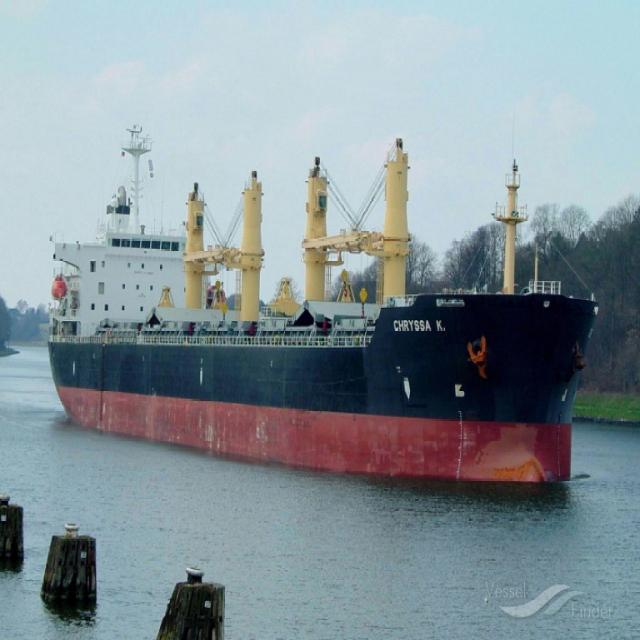Bulk Carrier: (45, 163, 596, 485)
